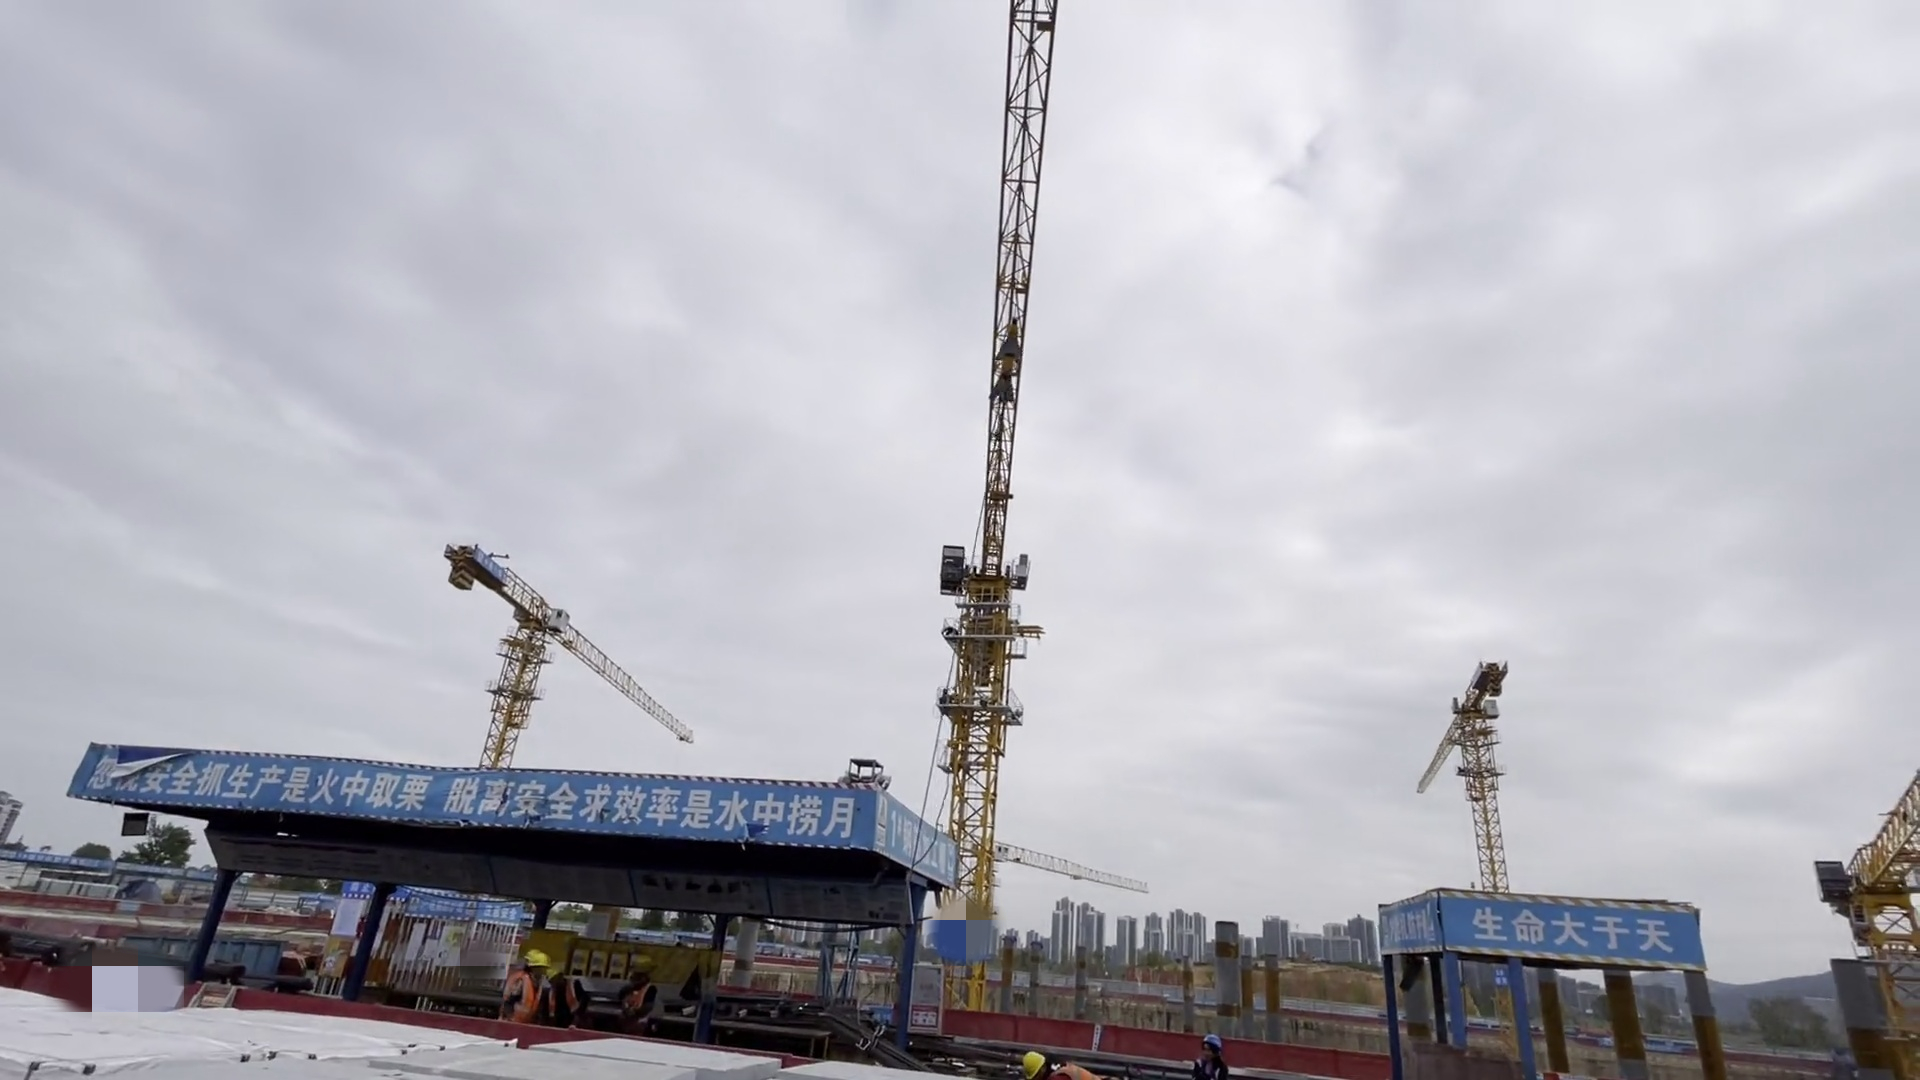helmet: (1015, 1043, 1044, 1073), (528, 948, 552, 972), (1202, 1031, 1226, 1045)
person: (619, 950, 665, 1040), (509, 939, 545, 1029), (1183, 1031, 1235, 1079), (544, 962, 579, 1028), (1015, 1055, 1085, 1080)
slogan: (71, 744, 862, 853), (1369, 883, 1710, 964), (878, 799, 971, 892)
vest: (508, 975, 543, 1018), (1050, 1063, 1118, 1080), (619, 984, 651, 1015)
